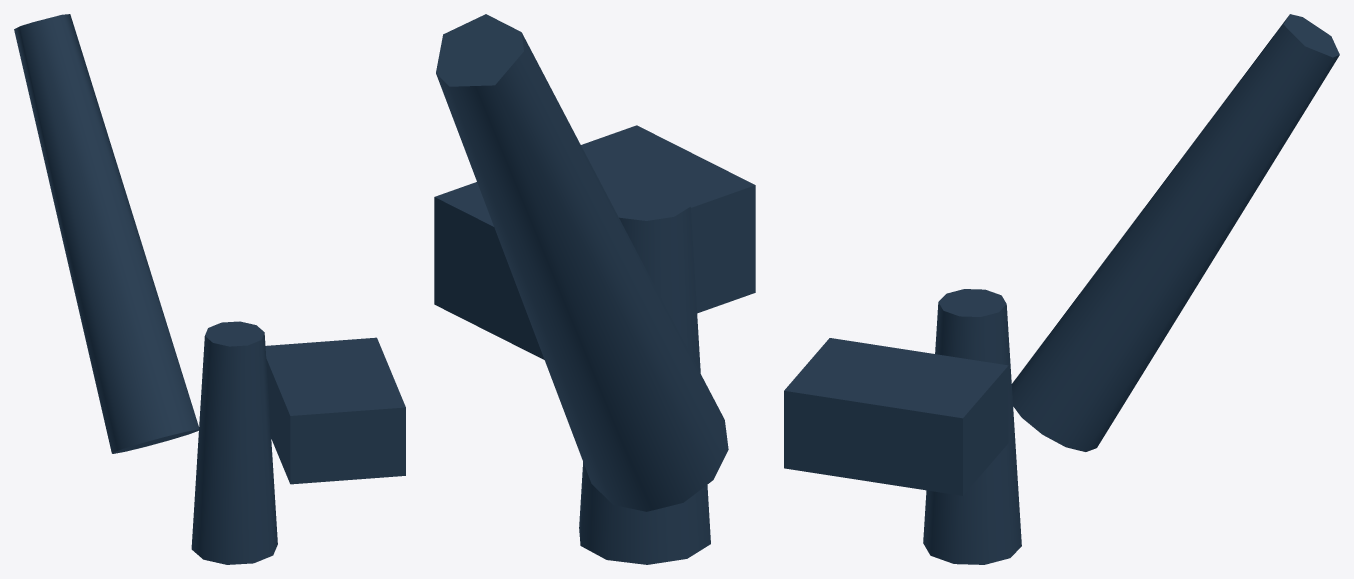
The model's file is sci-fi-observation-rig.collider.glb.
The picture shows the model from 3 angles, left to right: view 1: azimuth 30°, elevation 25°; view 2: azimuth 150°, elevation 25°; view 3: azimuth 270°, elevation 25°; orthographic projection. The views are drawn at different scales.
Visible parts, largest first — view 1: observation-rig-body; view 2: observation-rig-body; view 3: observation-rig-body.
Part boxes in pixels (x1,y1,x2,y2): observation-rig-body: (14,14,405,564); observation-rig-body: (434,14,755,564); observation-rig-body: (784,14,1339,564).
Bounding box in the file's own units: 1.52 × 2.9 × 2.92.
